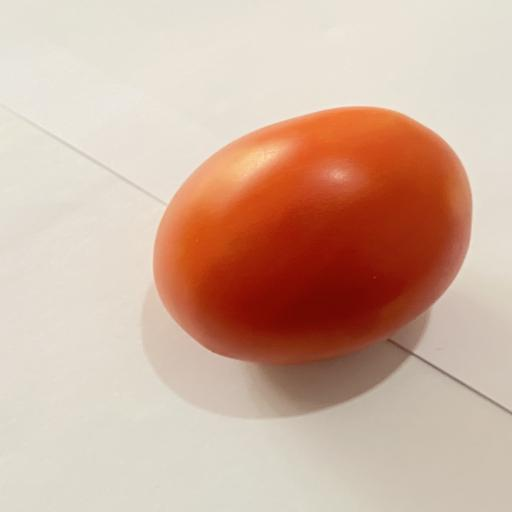ripe: (153, 107, 472, 364)
